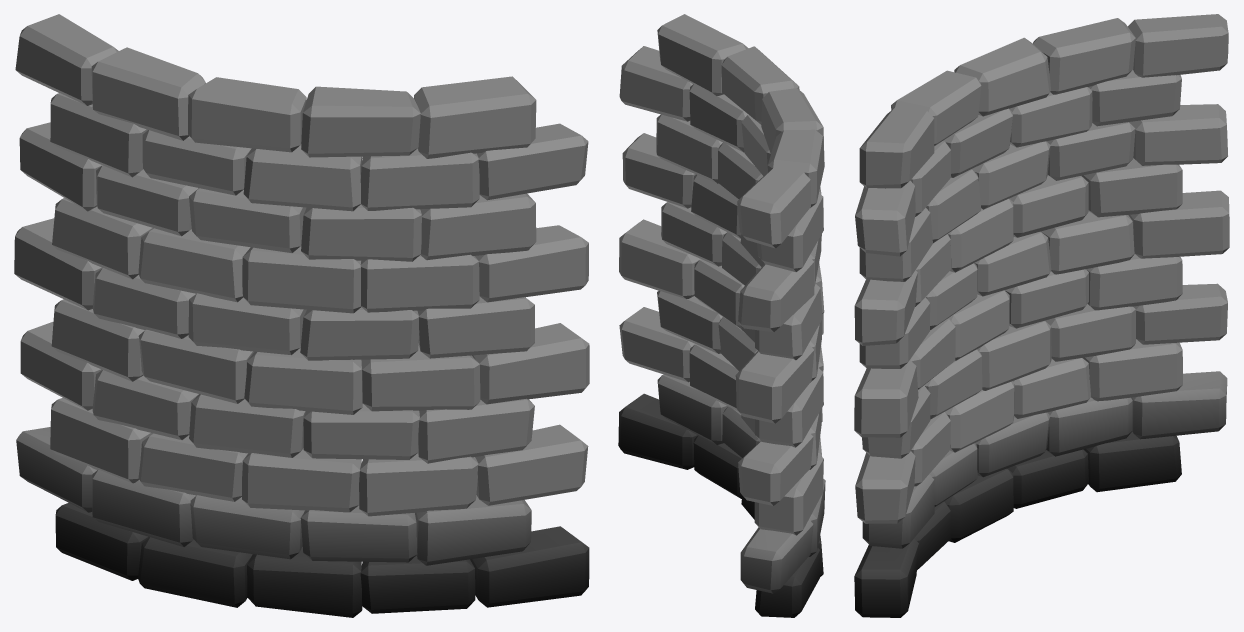
The model's file is BrickWall2x2_01_T90_Mid.fbx.
3 views of the same model, side by side, from view 1: azimuth 30°, elevation 25°; view 2: azimuth 150°, elevation 25°; view 3: azimuth 270°, elevation 25° (orthographic). The views are drawn at different scales.
Visible parts, largest first — view 1: BrickWall2x2_01_T90_Mid; view 2: BrickWall2x2_01_T90_Mid; view 3: BrickWall2x2_01_T90_Mid.
Boxes of the visible parts, bbox=[...] form: BrickWall2x2_01_T90_Mid: bbox=[14, 14, 589, 617]; BrickWall2x2_01_T90_Mid: bbox=[618, 14, 825, 617]; BrickWall2x2_01_T90_Mid: bbox=[854, 14, 1229, 617].
Bounding box in the file's own units: 153 × 202 × 151.
